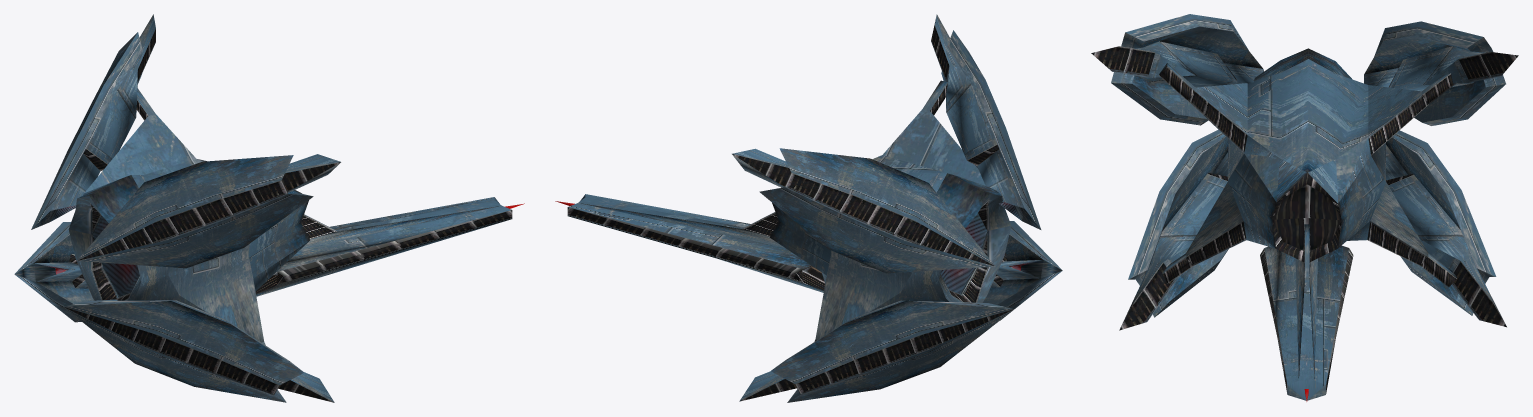
File: ic_drone01a.obj
The picture shows the model from 3 angles, left to right: view 1: azimuth 30°, elevation 25°; view 2: azimuth 150°, elevation 25°; view 3: azimuth 270°, elevation 25°; orthographic projection. The views are drawn at different scales.
Parts seen in each view (by area): view 1: NEW_BOSS010, CYLINDER030, CYLINDER010, BOX050, CYLINDER040, CYLINDER050; view 2: CYLINDER040, NEW_BOSS010, CYLINDER050, BOX050, CYLINDER030, CYLINDER010; view 3: NEW_BOSS010, CYLINDER050, CYLINDER030, CYLINDER010, BOX050, CYLINDER040.
Boxes of the visible parts, <box> form: NEW_BOSS010: <box>68,88,309,345</box>; CYLINDER030: <box>77,154,340,268</box>; CYLINDER010: <box>63,299,334,402</box>; BOX050: <box>255,197,512,296</box>; CYLINDER040: <box>31,14,155,229</box>; CYLINDER050: <box>14,222,94,322</box>; CYLINDER040: <box>732,148,995,273</box>; NEW_BOSS010: <box>770,80,1011,341</box>; CYLINDER050: <box>739,300,1013,402</box>; BOX050: <box>567,194,825,292</box>; CYLINDER030: <box>931,14,1041,229</box>; CYLINDER010: <box>982,221,1062,320</box>; NEW_BOSS010: <box>1159,48,1456,286</box>; CYLINDER050: <box>1386,130,1506,327</box>; CYLINDER030: <box>1091,14,1263,125</box>; CYLINDER010: <box>1119,129,1228,330</box>; BOX050: <box>1260,224,1353,400</box>; CYLINDER040: <box>1364,21,1518,125</box>.
Bounding box in the file's own units: 39.64 × 20.23 × 27.79.
Materials: 8 (8 with a texture image).
